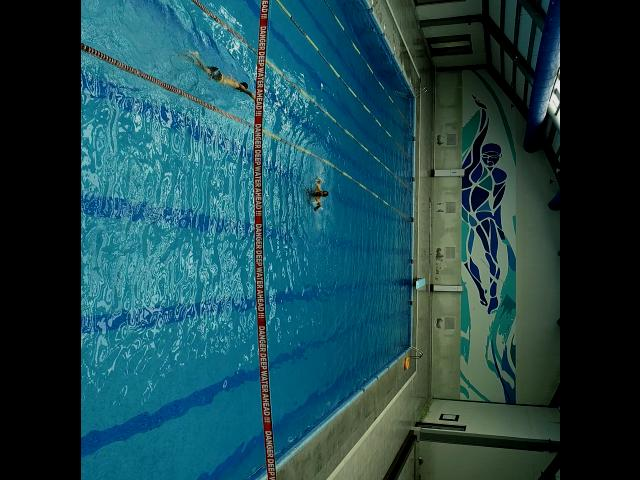swimming: (182, 50, 257, 100), (308, 176, 328, 210)
